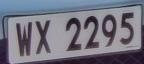2: (62, 14, 84, 54), (82, 12, 102, 53)
5: (118, 9, 139, 47)
9: (99, 10, 118, 50)
W: (14, 19, 34, 59)
X: (33, 17, 55, 59)
